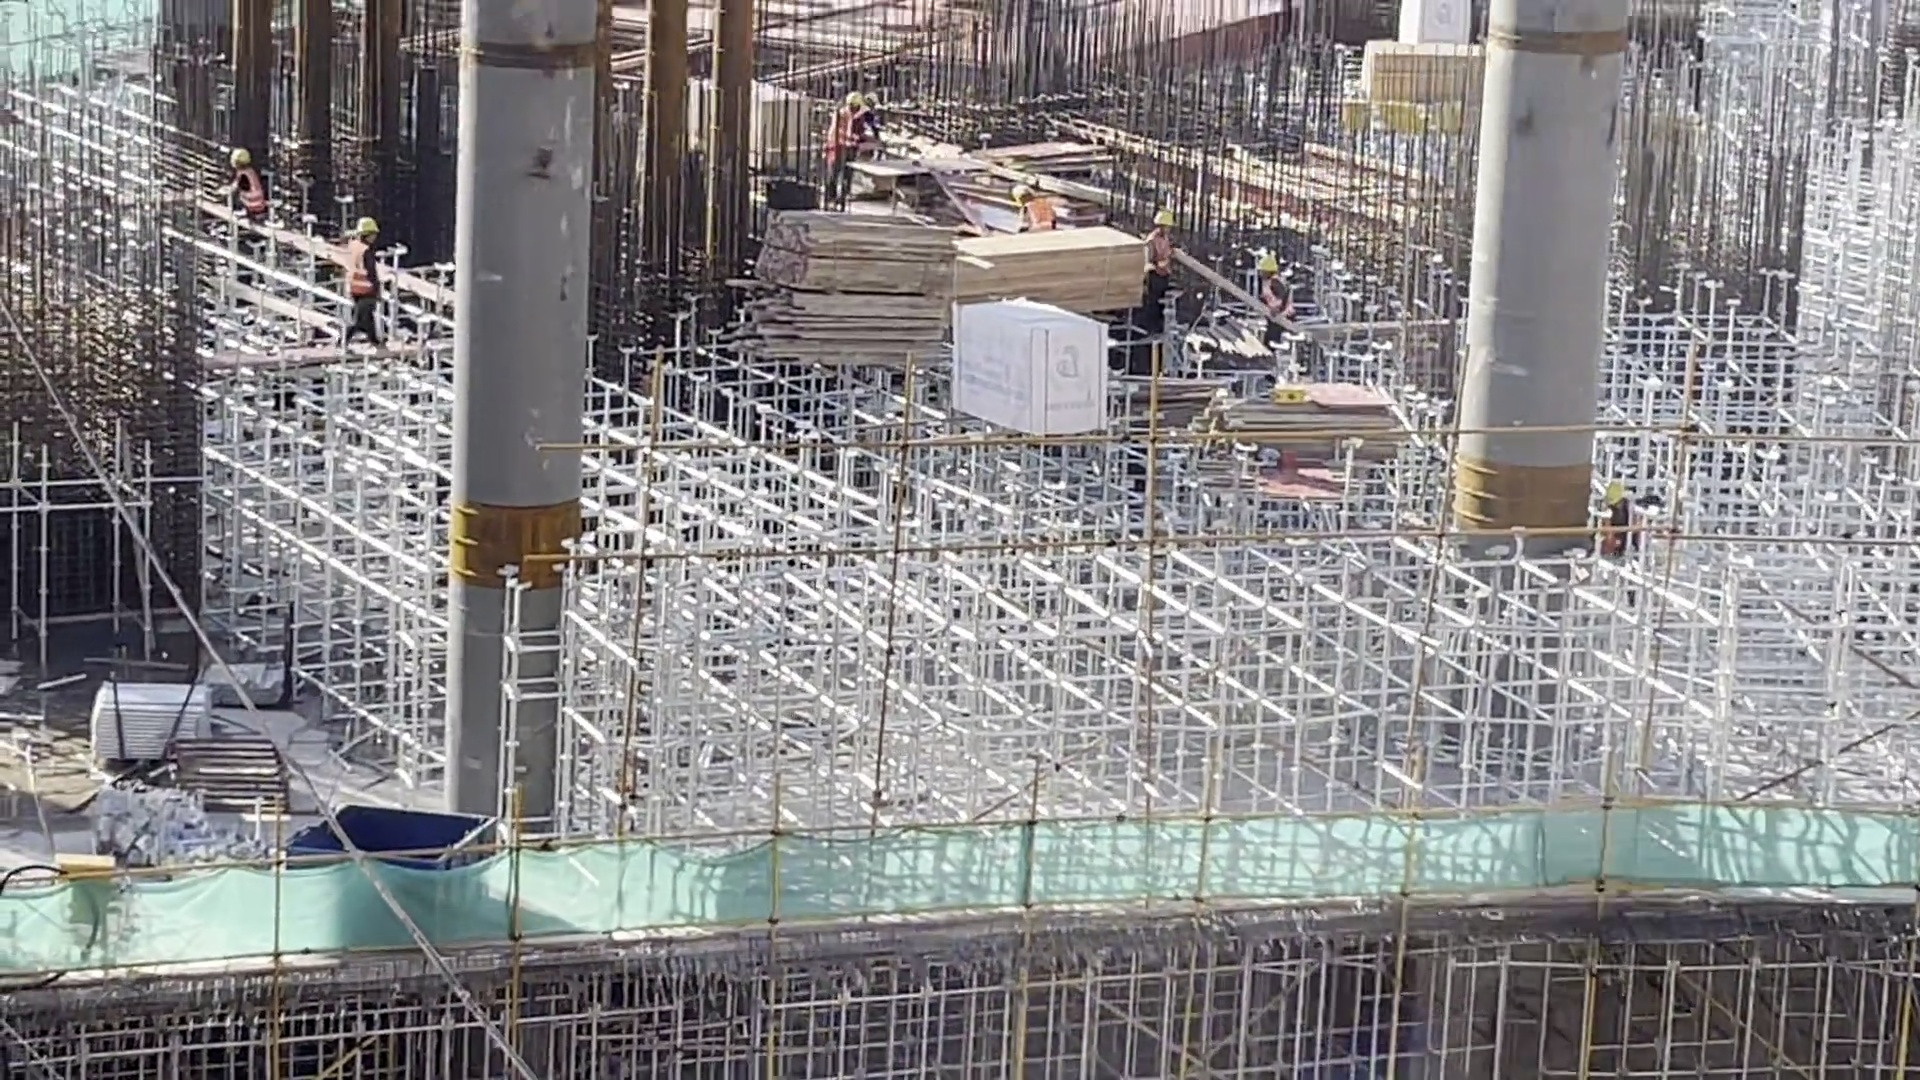helmet: (1256, 252, 1277, 275), (353, 219, 379, 238), (224, 150, 251, 166), (1156, 207, 1176, 225), (846, 92, 862, 106)
person: (342, 215, 391, 350), (1253, 248, 1296, 357), (827, 95, 865, 214), (224, 146, 273, 234), (1596, 483, 1640, 570), (1149, 214, 1174, 325), (1012, 182, 1062, 236)
vest: (340, 242, 376, 300), (1258, 274, 1294, 328), (232, 170, 265, 211), (1147, 233, 1174, 280), (1023, 200, 1056, 228)
